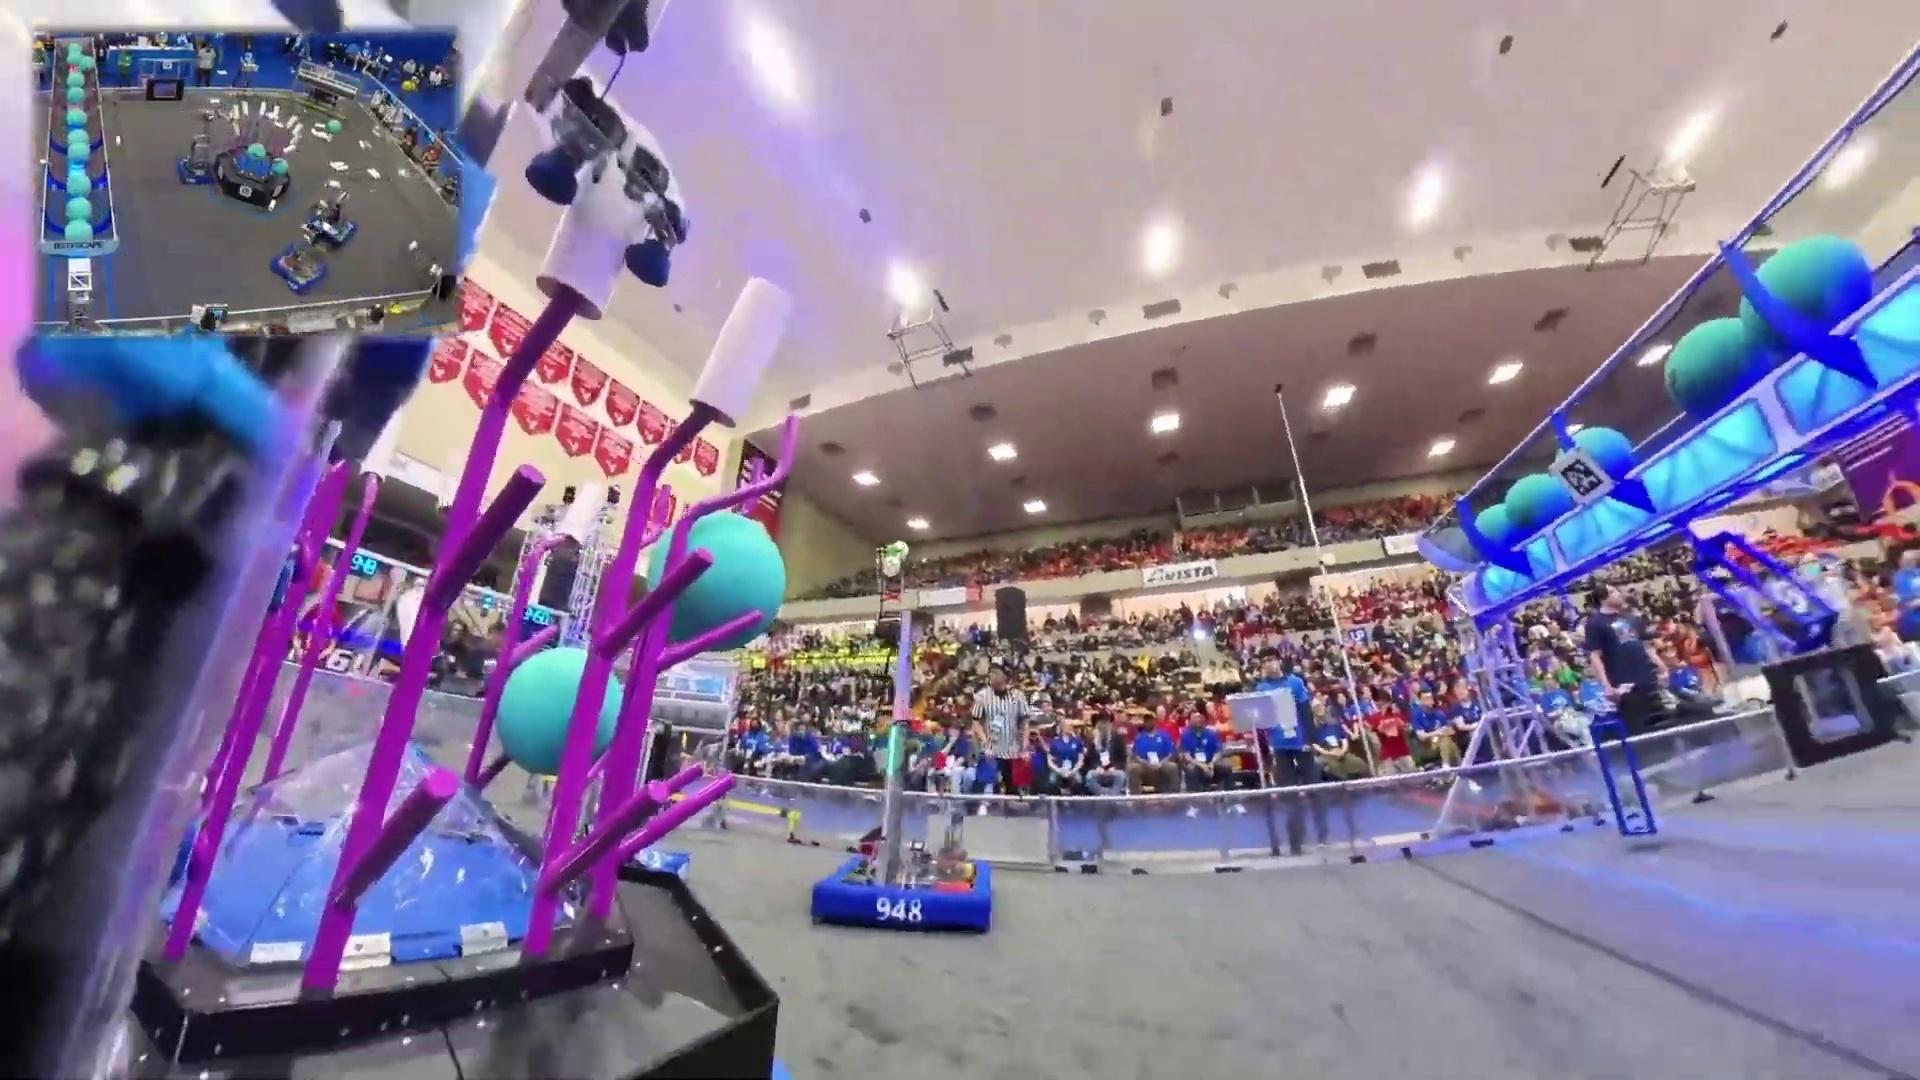robot: (812, 612, 997, 943), (306, 166, 360, 245), (173, 102, 219, 187), (273, 240, 328, 294), (641, 847, 699, 890)
